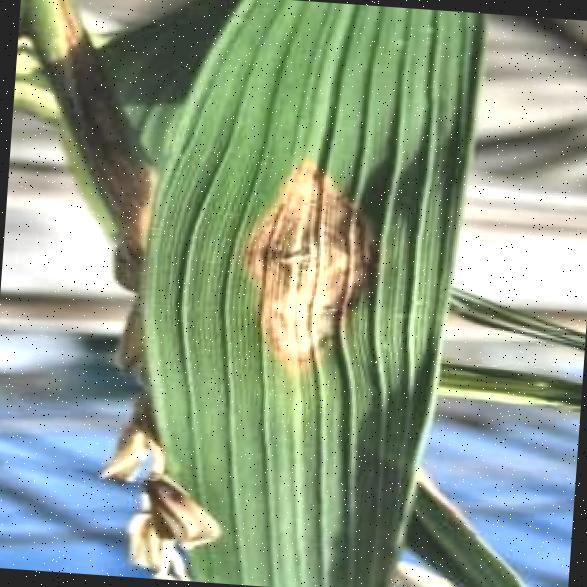Leaf_smut: (222, 153, 378, 376)
